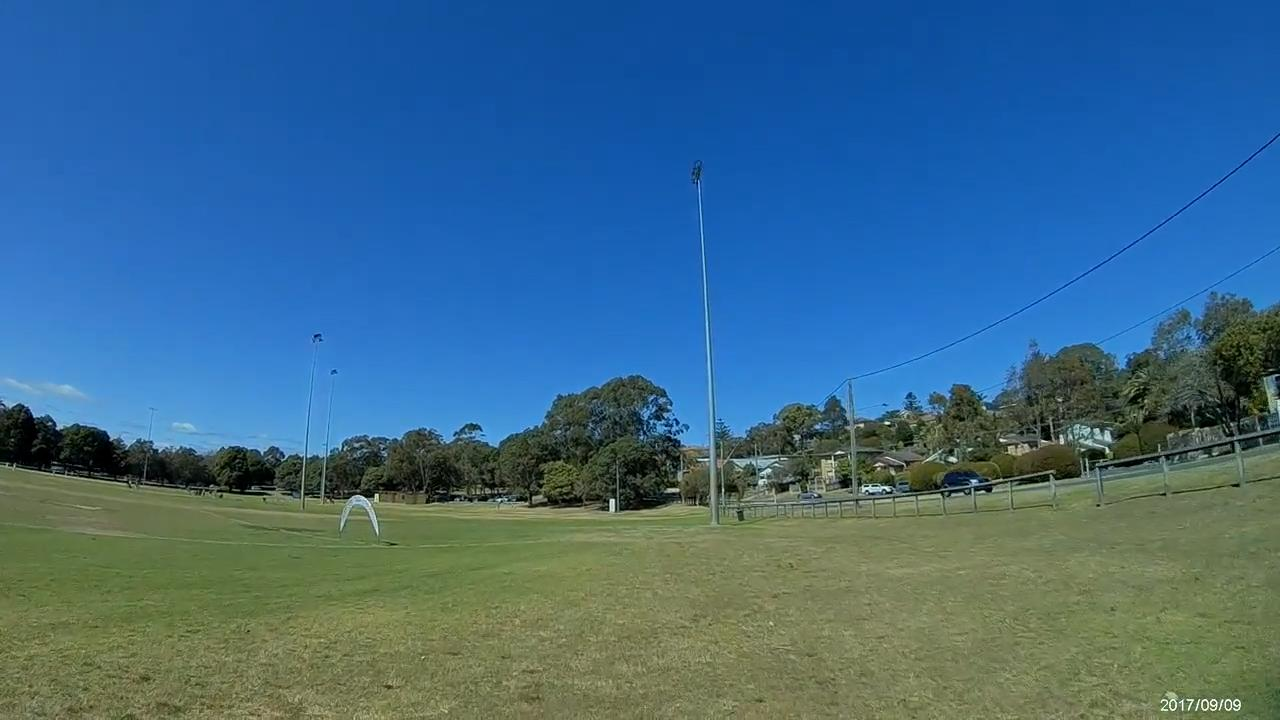gate: (340, 495, 378, 534)
